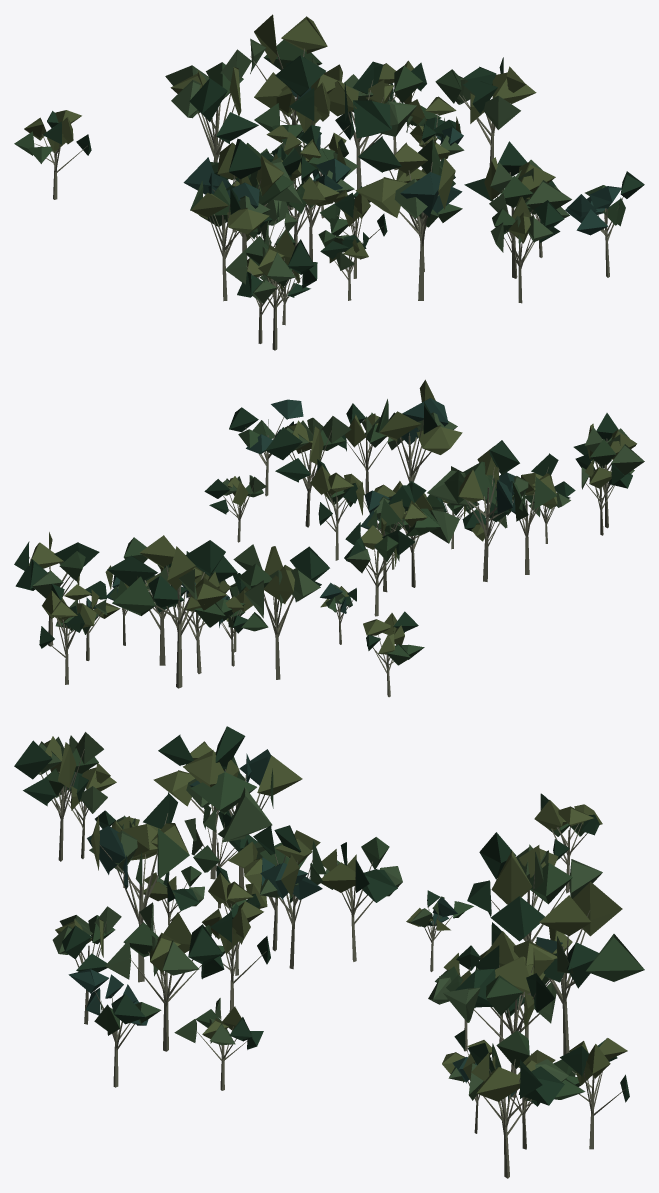
Rendered from forest_25_22.dae.
3 renders of one model, top to bottom at view 1: azimuth 30°, elevation 25°; view 2: azimuth 150°, elevation 25°; view 3: azimuth 270°, elevation 25°, orthographic. The views are drawn at different scales.
Parts seen in each view (by area): view 1: Node; view 2: Node; view 3: Node.
Part boxes in pixels (left/top/right/bottom): Node: left=14, top=14, right=644, bottom=350; Node: left=14, top=379, right=644, bottom=697; Node: left=14, top=726, right=644, bottom=1178.
Size of the model in its own units: 11.44 by 11.52 by 5.07.
